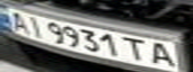1: (96, 30, 121, 57)
3: (78, 26, 100, 53)
9: (42, 19, 66, 45), (60, 23, 81, 48)
A: (145, 38, 184, 69), (3, 9, 33, 34)
I: (21, 12, 48, 38)
T: (121, 35, 151, 63)
